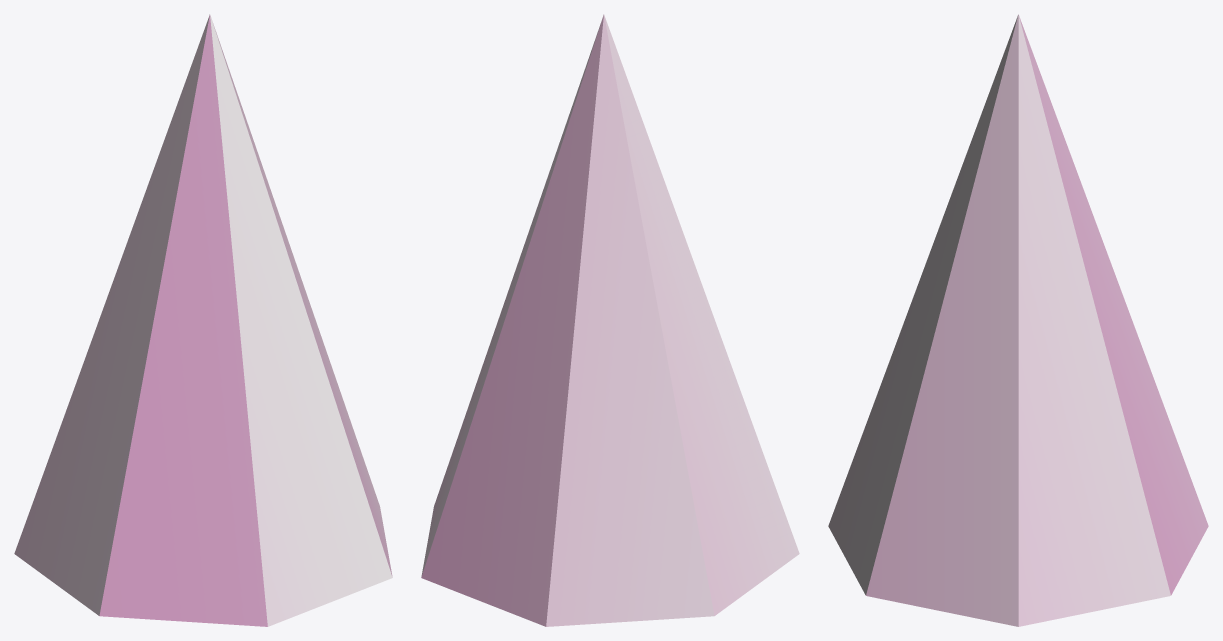
File: Eiszapfen.fbx
3 views of the same model, side by side, from view 1: azimuth 30°, elevation 25°; view 2: azimuth 150°, elevation 25°; view 3: azimuth 270°, elevation 25° (orthographic).
Visible parts, largest first — view 1: Eiszapfen; view 2: Eiszapfen; view 3: Eiszapfen.
Part boxes in pixels (left/top/right/bottom): Eiszapfen: left=14, top=14, right=392, bottom=626; Eiszapfen: left=421, top=14, right=799, bottom=626; Eiszapfen: left=828, top=14, right=1208, bottom=626.
Size of the model in its own units: 1901 by 3000 by 1950.
Materials: 1 (1 with a texture image).
